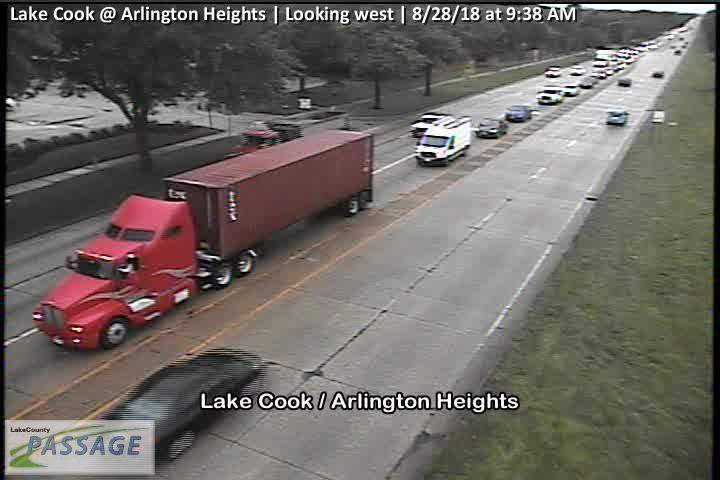SUV: (411, 113, 444, 138), (538, 87, 563, 105)
Sedan: (98, 349, 262, 463), (477, 119, 508, 139), (505, 105, 532, 122), (606, 108, 630, 126), (563, 84, 581, 95), (546, 66, 561, 77), (571, 64, 585, 75), (618, 78, 632, 86), (653, 70, 664, 77)
Truck: (31, 126, 374, 348), (225, 124, 304, 166), (414, 115, 471, 167)
